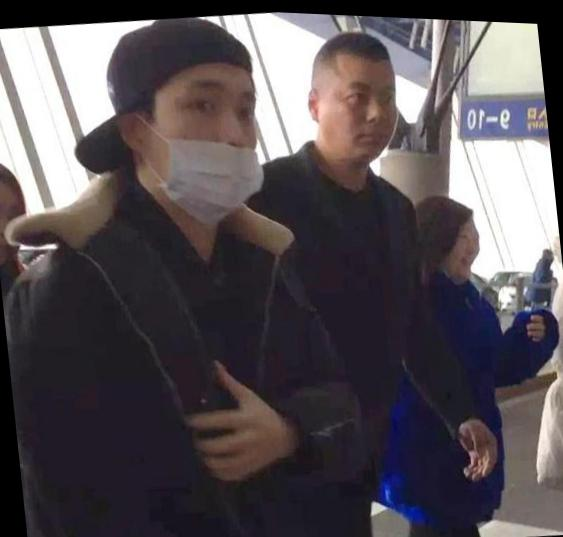NONE: (325, 70, 404, 158), (434, 216, 485, 276), (1, 193, 28, 269)
WRONG: (123, 63, 271, 216)
